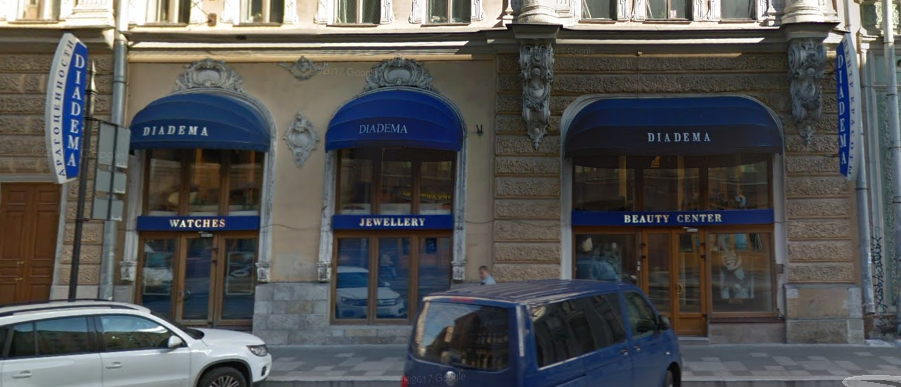cantilever: (44, 33, 96, 185), (822, 32, 862, 183)
signboard: (574, 207, 778, 224), (331, 211, 457, 233), (134, 211, 255, 228)
window: (572, 234, 778, 313), (132, 235, 247, 320), (568, 157, 774, 204), (339, 236, 447, 325), (144, 151, 256, 212), (339, 150, 453, 209)
